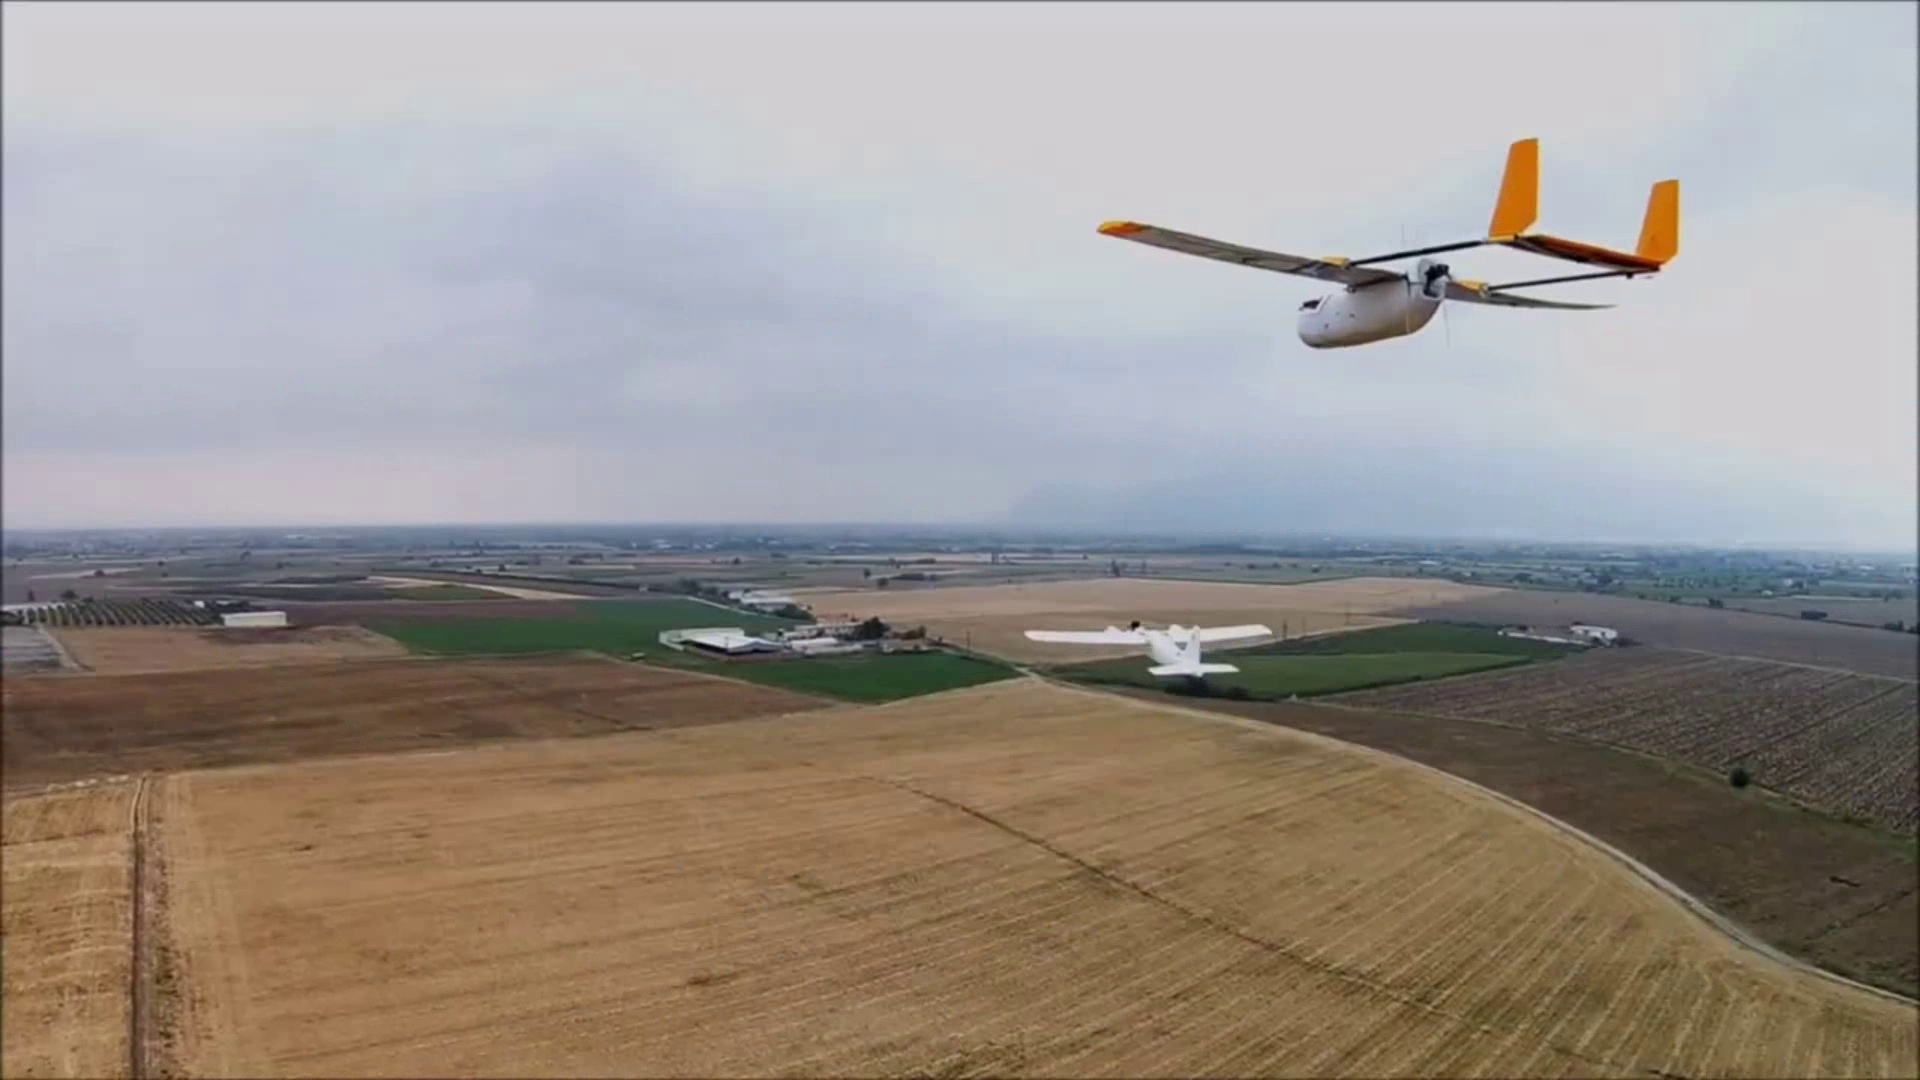airplane: (1095, 141, 1680, 349)
